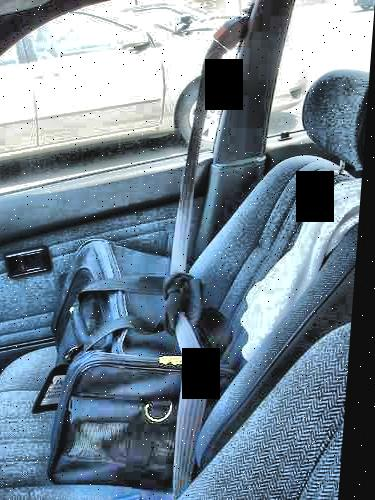seatbelt: (158, 36, 234, 458)
